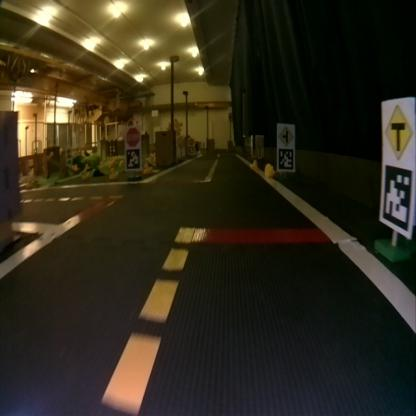Duckie: (264, 163, 274, 177), (108, 167, 118, 179), (143, 163, 151, 173), (249, 159, 256, 170)
Intersection sign: (385, 103, 412, 159), (279, 126, 292, 146)
QR code: (383, 164, 409, 231), (278, 149, 292, 168), (126, 148, 139, 166)
Stop sign: (125, 127, 140, 146)
